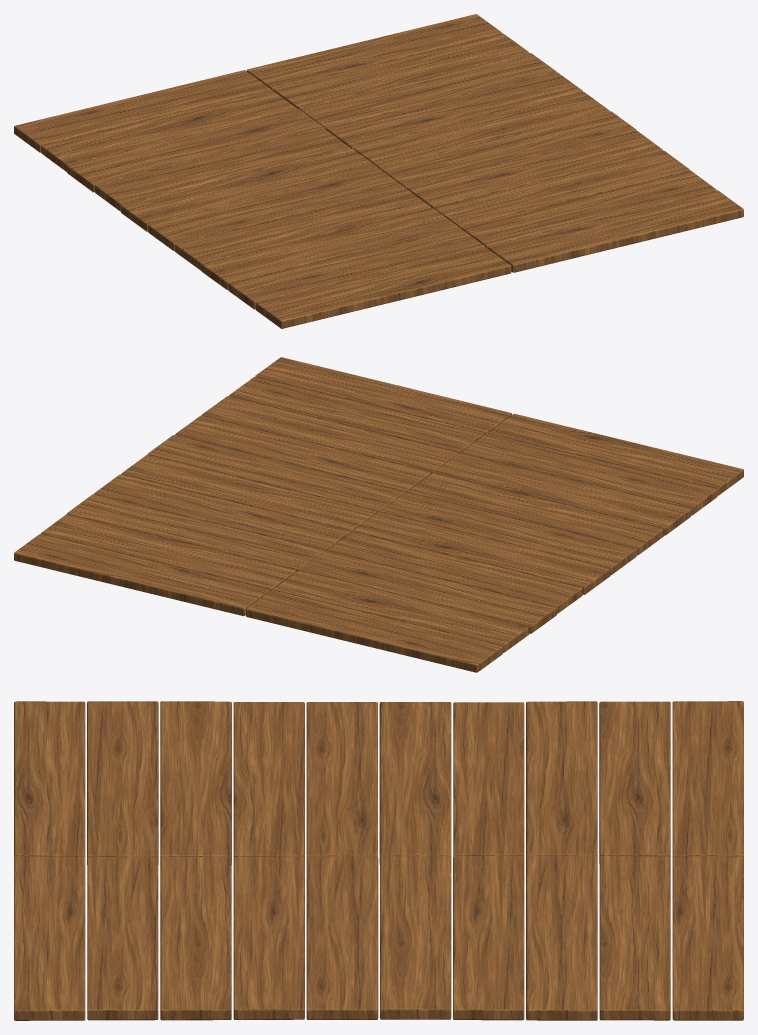
The model's file is SM_HH_Q2_FloorTile2m.fbx.
The picture shows the model from 3 angles, top to bottom: view 1: azimuth 30°, elevation 25°; view 2: azimuth 150°, elevation 25°; view 3: azimuth 270°, elevation 25°; orthographic projection. The views are drawn at different scales.
Visible parts, largest first — view 1: HH_Q2_FloorTile2m; view 2: HH_Q2_FloorTile2m; view 3: HH_Q2_FloorTile2m.
Part boxes in pixels (box(x1,y1,x2,y2)): HH_Q2_FloorTile2m: box(14, 14, 743, 328); HH_Q2_FloorTile2m: box(14, 357, 743, 672); HH_Q2_FloorTile2m: box(14, 701, 743, 1020).
Bounding box in the file's own units: 2 × 2 × 0.0371.
